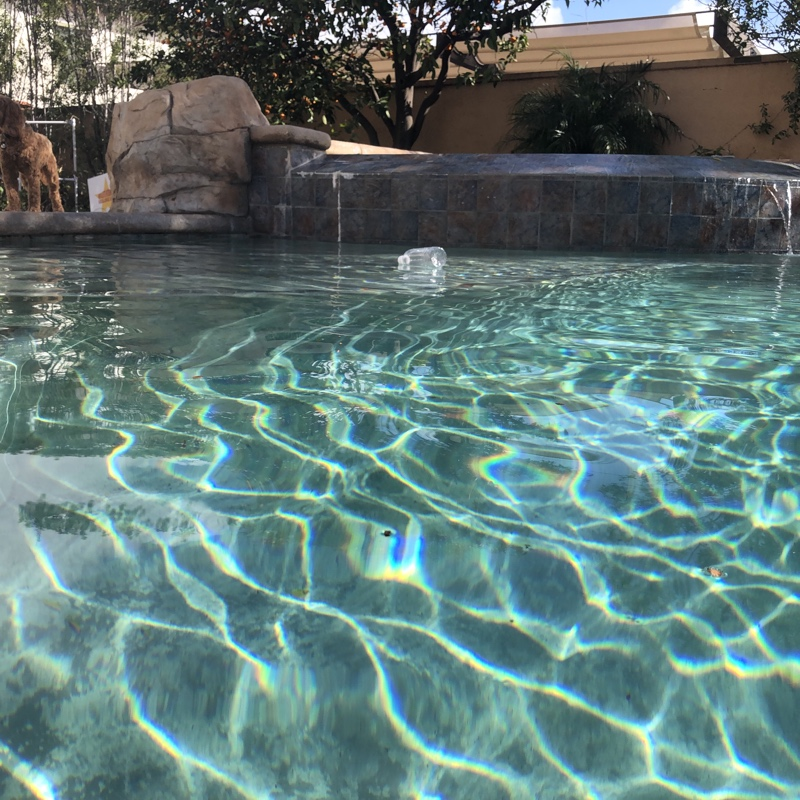Plastic Bottle: (393, 245, 447, 272)
